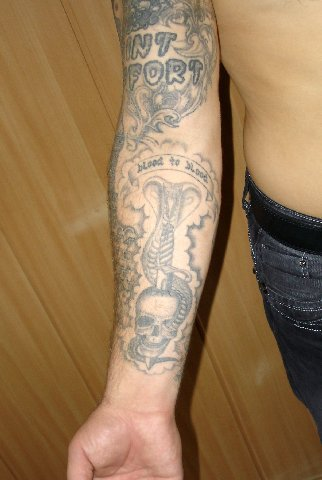tatu3_bukva: (129, 139, 230, 186), (129, 32, 203, 84)
tatu7_zmeya: (126, 161, 205, 319)
